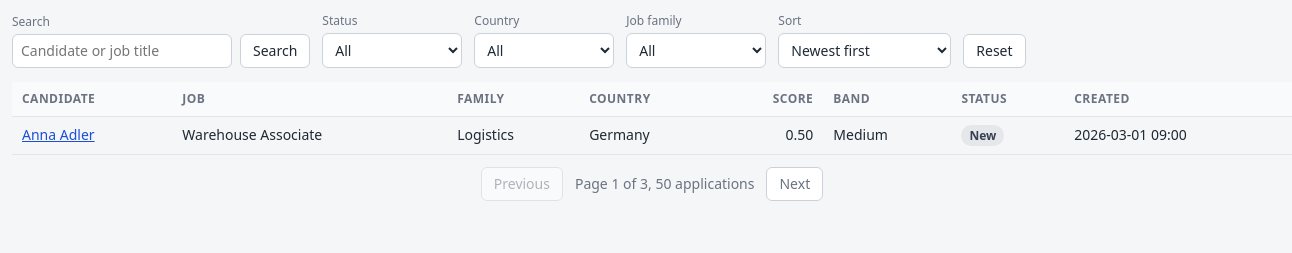
blocks the pager while a new page loads
The width and height of the screenshot is (1292, 253).
Expected: the button "Anna Adler" is shown, [22, 125, 95, 145]
Select "Logistics" in the dropdown labelled "Job family". click: (696, 51)
box: [626, 33, 766, 68]
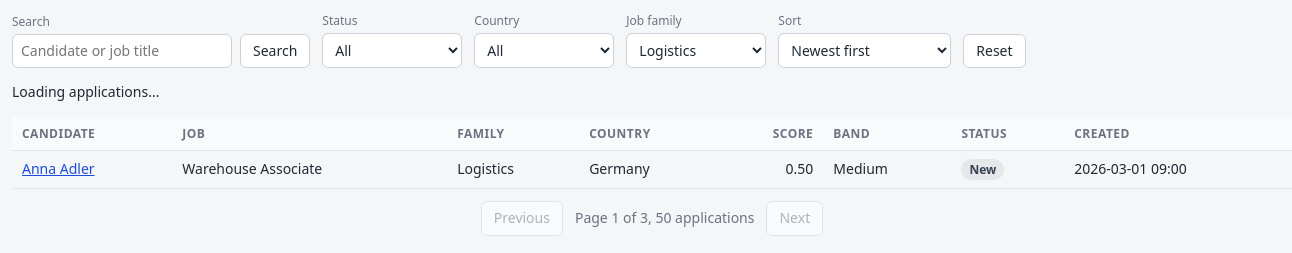
Expected: the button "Previous" is disabled, [481, 202, 563, 236]
Now the button "Next" is disabled, box [766, 202, 823, 236]
